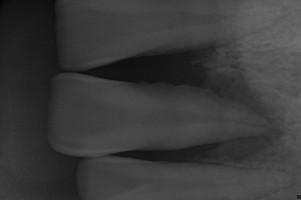Dental Caries: (203, 73, 283, 161)
